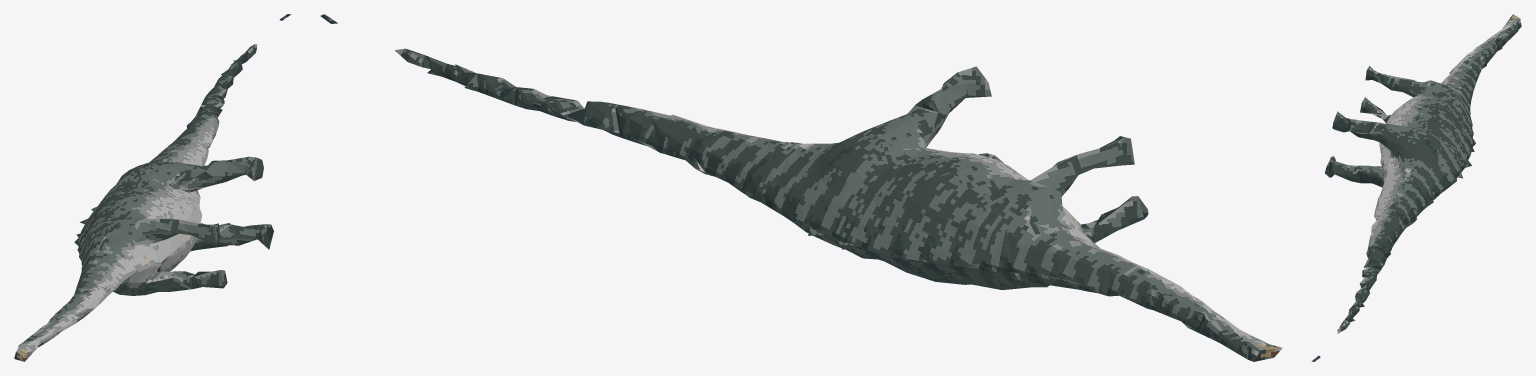
File: okami.glb
3 views of the same model, side by side, from view 1: azimuth 90°, elevation 25°; view 2: azimuth 150°, elevation 25°; view 3: azimuth 270°, elevation 25° (orthographic). The views are drawn at different scales.
Parts seen in each view (by area): view 1: model_m; view 2: model_m; view 3: model_m.
Part boxes in pixels (x1=…): model_m: x1=14, y1=14, x2=291, y2=361; model_m: x1=320, y1=14, x2=1282, y2=361; model_m: x1=1311, y1=14, x2=1521, y2=361.
Size of the model in its own units: 47.27 by 5.56 by 13.84.
Materials: 1 (1 with a texture image).
